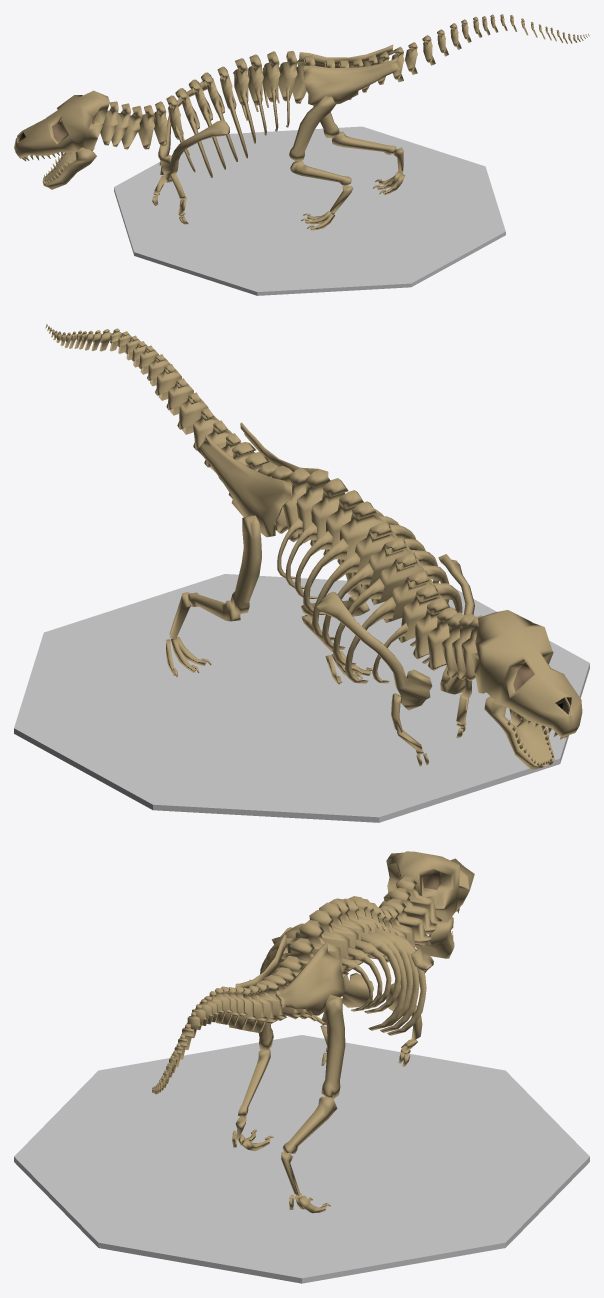
File: Dino.gltf
The picture shows the model from 3 angles, top to bottom: view 1: azimuth 30°, elevation 25°; view 2: azimuth 150°, elevation 25°; view 3: azimuth 270°, elevation 25°; orthographic projection. The views are drawn at different scales.
Parts seen in each view (by area): view 1: Dino.001; view 2: Dino.001; view 3: Dino.001.
Boxes of the visible parts, x1,y1,x2,y2 form: Dino.001: [14, 14, 589, 295]; Dino.001: [14, 324, 589, 822]; Dino.001: [14, 851, 589, 1283].
Size of the model in its own units: 13.03 by 4.97 by 9.76.
1 material, 1 textured.
